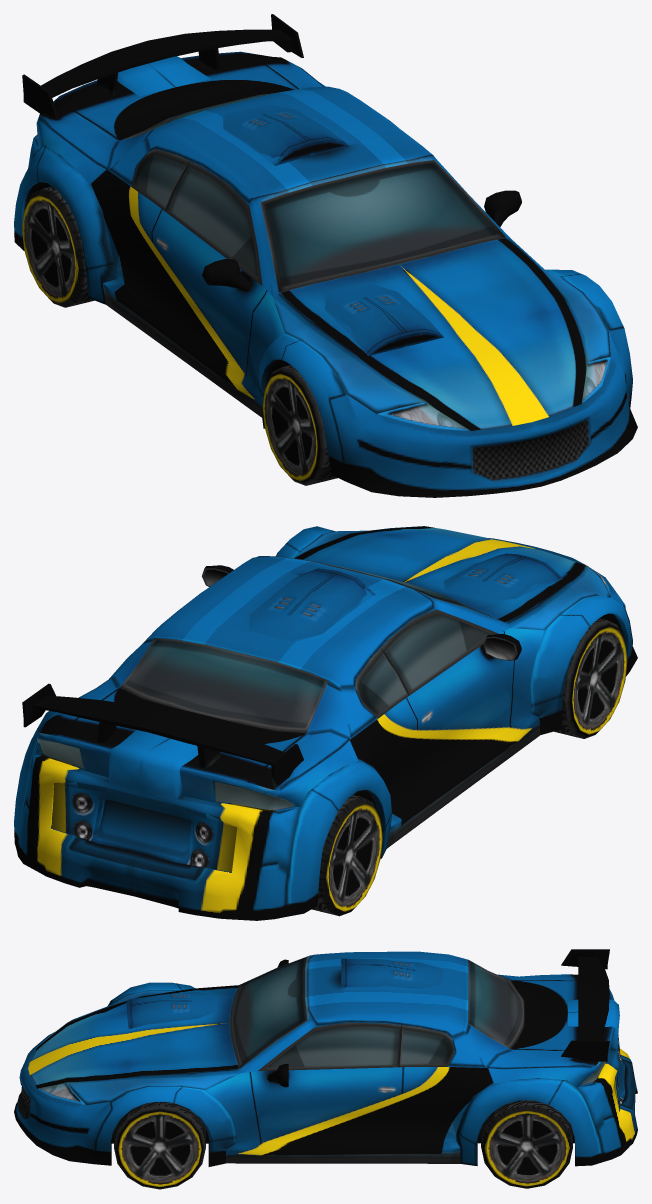
3 views of the same model, one above another, from view 1: azimuth 30°, elevation 25°; view 2: azimuth 150°, elevation 25°; view 3: azimuth 270°, elevation 25° (orthographic). The views are drawn at different scales.
Visible parts, largest first — view 1: player_chassis, veh_wheel_b, veh_wheel_fr; view 2: player_chassis, veh_wheel_b, veh_wheel_fr; view 3: player_chassis, veh_wheel_b, veh_wheel_fl.
Boxes of the visible parts, x1,y1,x2,y2 form: player_chassis: [14, 14, 637, 497]; veh_wheel_b: [22, 186, 94, 307]; veh_wheel_fr: [262, 365, 337, 485]; player_chassis: [14, 526, 637, 920]; veh_wheel_b: [312, 795, 382, 916]; veh_wheel_fr: [554, 618, 627, 738]; player_chassis: [14, 949, 637, 1166]; veh_wheel_b: [481, 1100, 572, 1188]; veh_wheel_fl: [114, 1102, 205, 1189].
Size of the model in its own units: 206 by 135 by 464.
